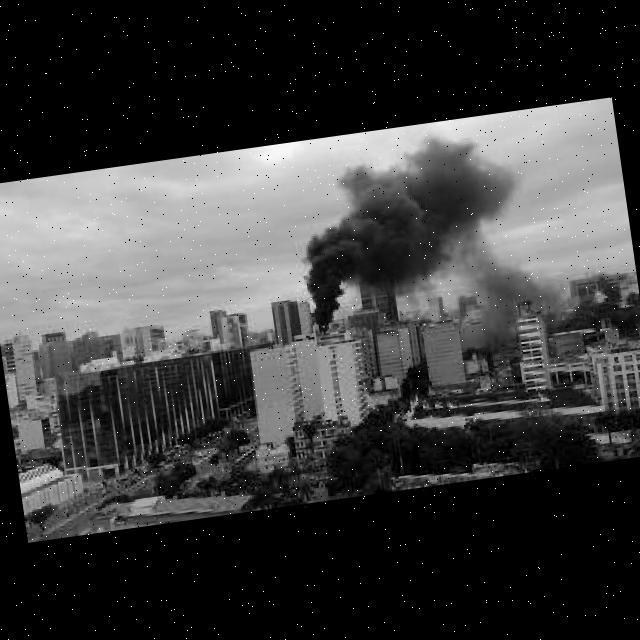Fire: (321, 325, 330, 336)
Smoke: (329, 129, 520, 286), (295, 233, 354, 332)
